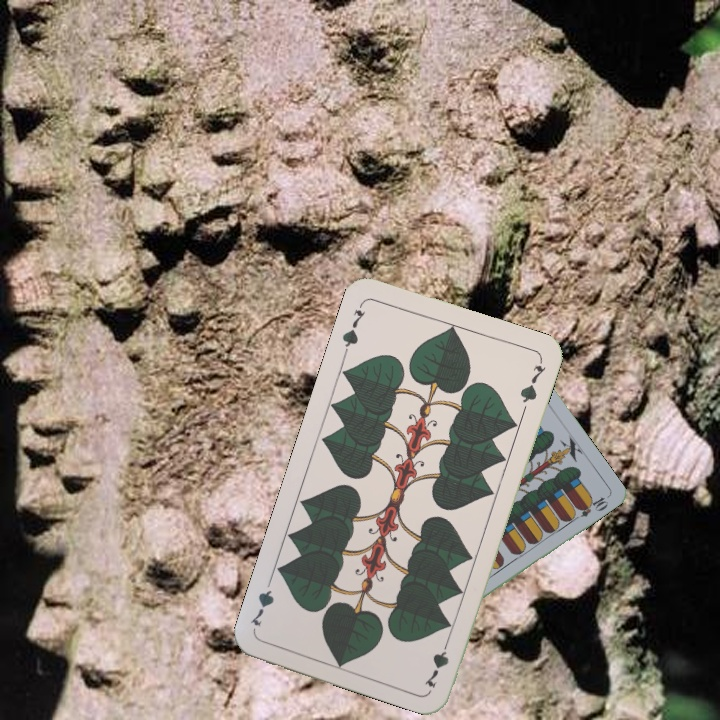G7: (420, 633, 453, 691), (338, 299, 369, 357)
